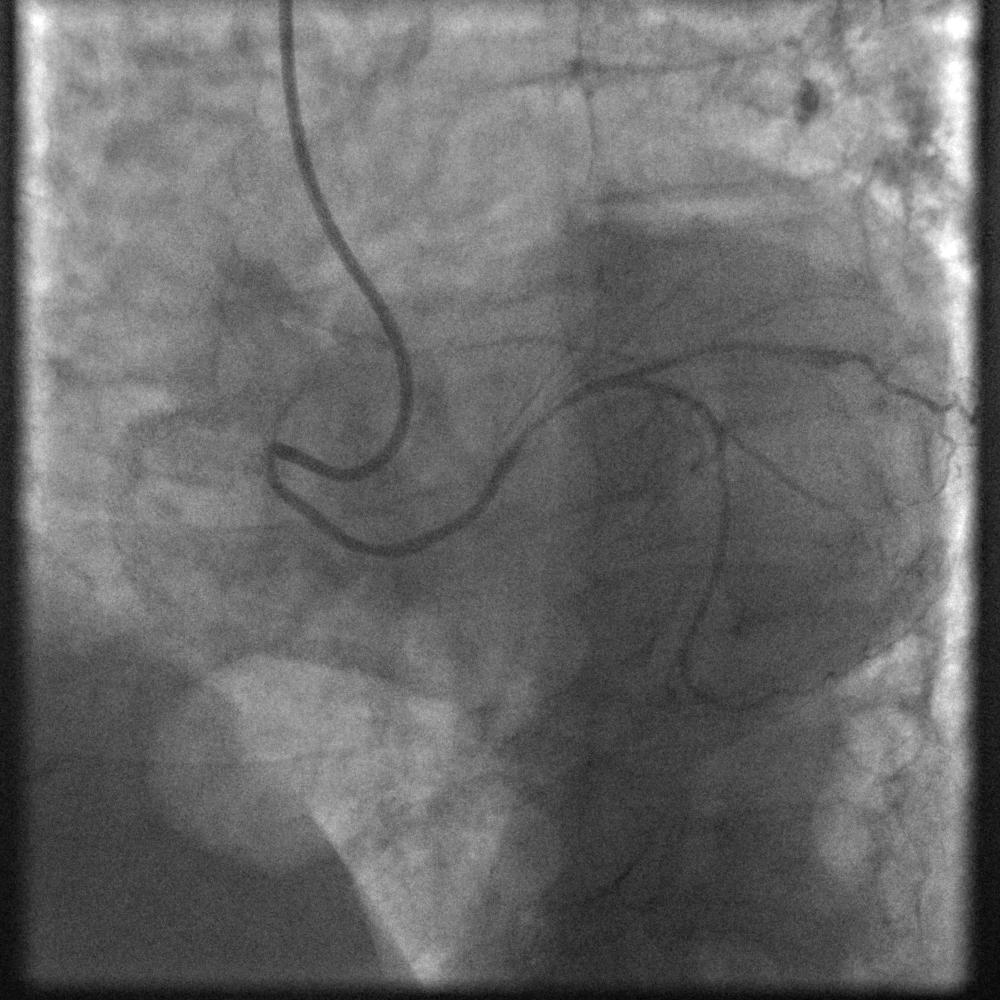Stenosis: (522, 397, 577, 434)
